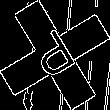P_SE: (26, 24, 84, 86)
